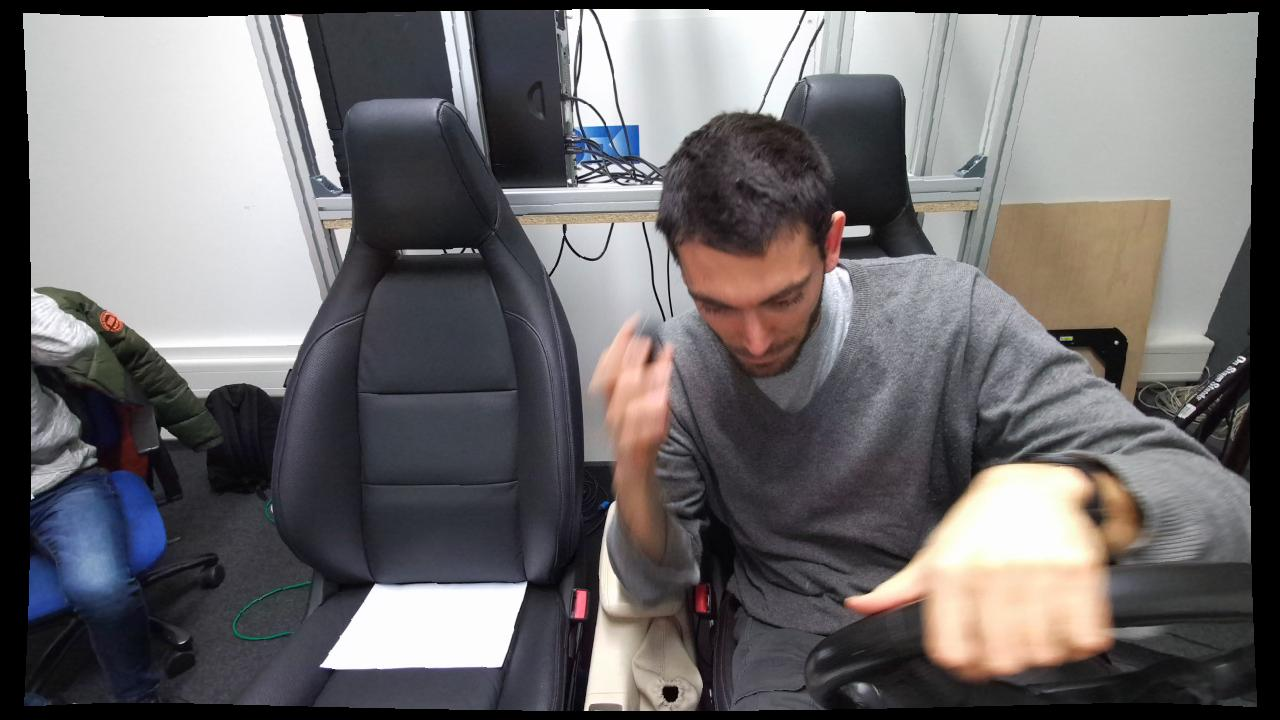Distracted: (590, 104, 1131, 710)
PhoneUse: (619, 316, 672, 410)
